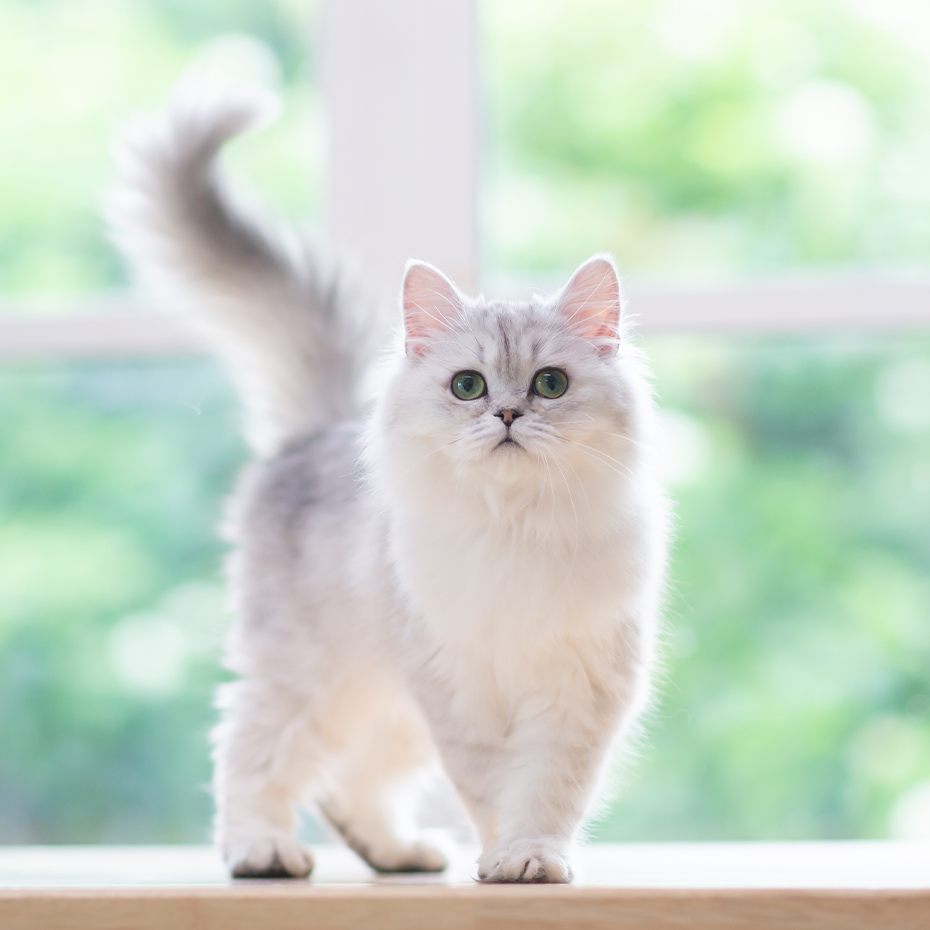Cat: (91, 44, 719, 891)
